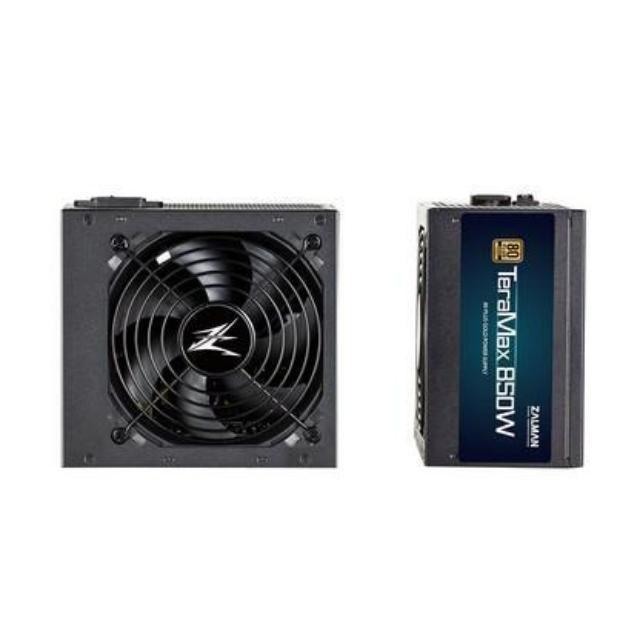PSU: (46, 185, 348, 487), (412, 172, 594, 484)
